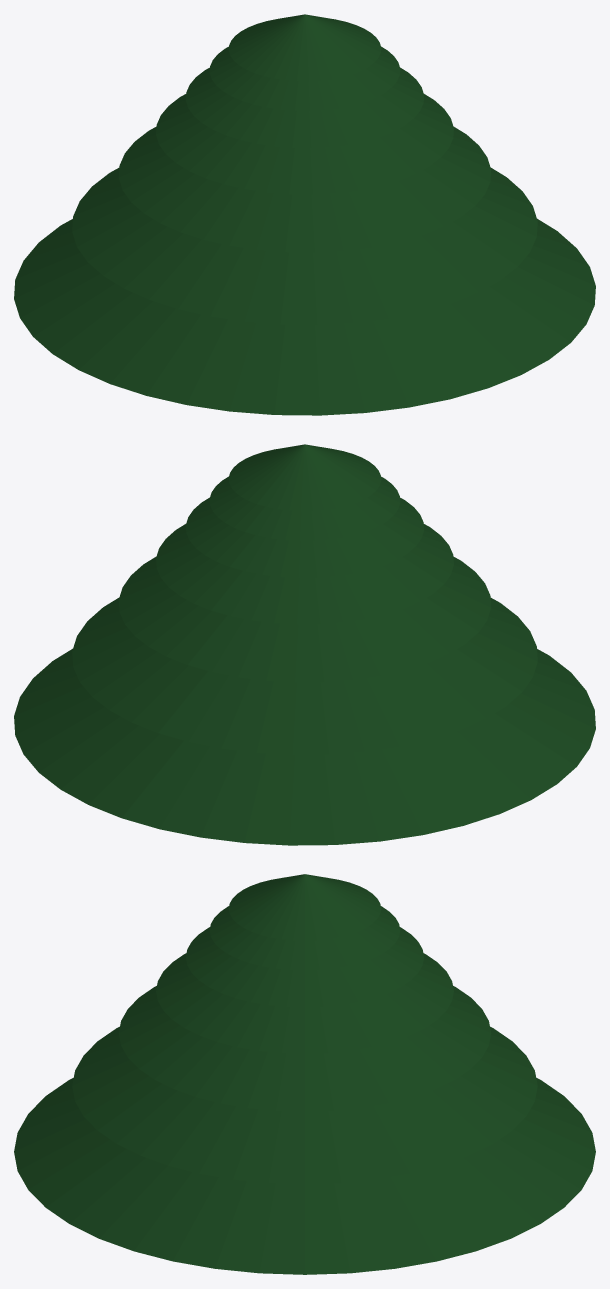
Rendered from Tree_1.fbx.
The picture shows the model from 3 angles, top to bottom: view 1: azimuth 30°, elevation 25°; view 2: azimuth 150°, elevation 25°; view 3: azimuth 270°, elevation 25°; orthographic projection.
Parts seen in each view (by area): view 1: Cone; view 2: Cone; view 3: Cone.
Boxes of the visible parts, x1,y1,x2,y2 form: Cone: [14, 14, 595, 415]; Cone: [14, 444, 595, 845]; Cone: [14, 874, 595, 1274].
Bounding box in the file's own units: 1600 × 1043 × 1600.
